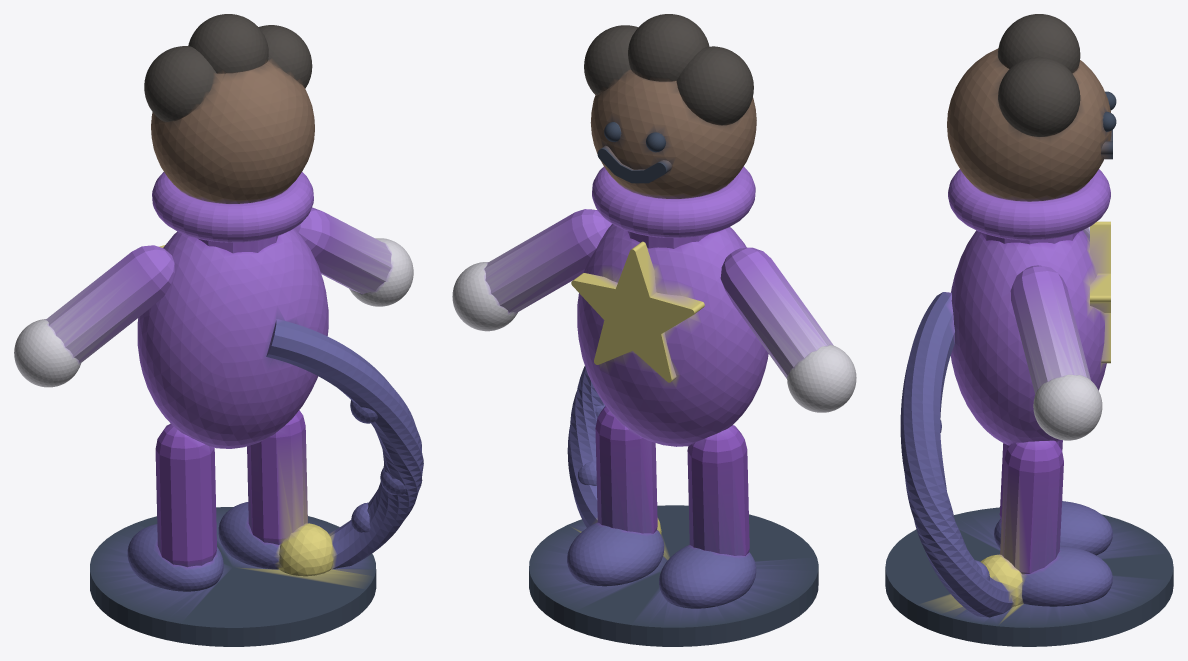
File: neuronaut-cortex-preview.glb
3 renders of one model, left to right at view 1: azimuth 30°, elevation 25°; view 2: azimuth 150°, elevation 25°; view 3: azimuth 270°, elevation 25°, orthographic.
Visible parts, largest first — view 1: geometry_0; view 2: geometry_0; view 3: geometry_0.
Part boxes in pixels (<box>): geometry_0: <box>14,14,423,646</box>; geometry_0: <box>452,14,856,646</box>; geometry_0: <box>885,14,1173,646</box>.
Size of the model in its own units: 0.0367 by 0.0508 by 0.0233.
